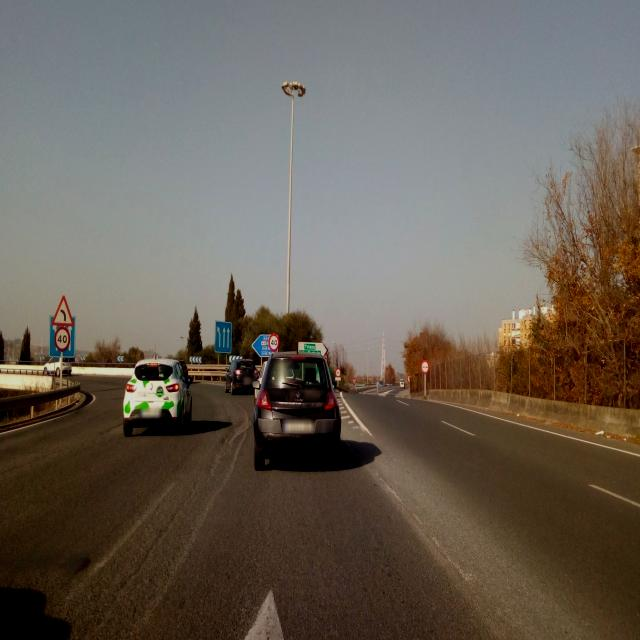car: (253, 351, 336, 471), (122, 356, 194, 436), (225, 356, 255, 394), (398, 376, 407, 390)
